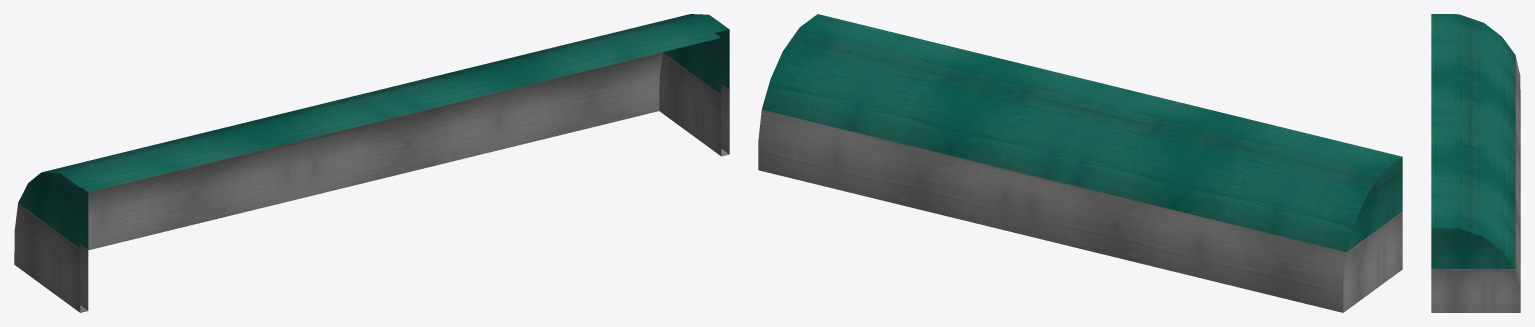
The picture shows the model from 3 angles, left to right: view 1: azimuth 30°, elevation 25°; view 2: azimuth 150°, elevation 25°; view 3: azimuth 270°, elevation 25°; orthographic projection. The views are drawn at different scales.
Parts seen in each view (by area): view 1: Awn (5); view 2: Awn (5); view 3: Awn (5).
Boxes of the visible parts, box(x1,y1,x2,y2) form: Awn (5): box(14, 14, 729, 312); Awn (5): box(758, 14, 1402, 312); Awn (5): box(1431, 14, 1520, 312).
Bounding box in the file's own units: 1278 × 236 × 225.
